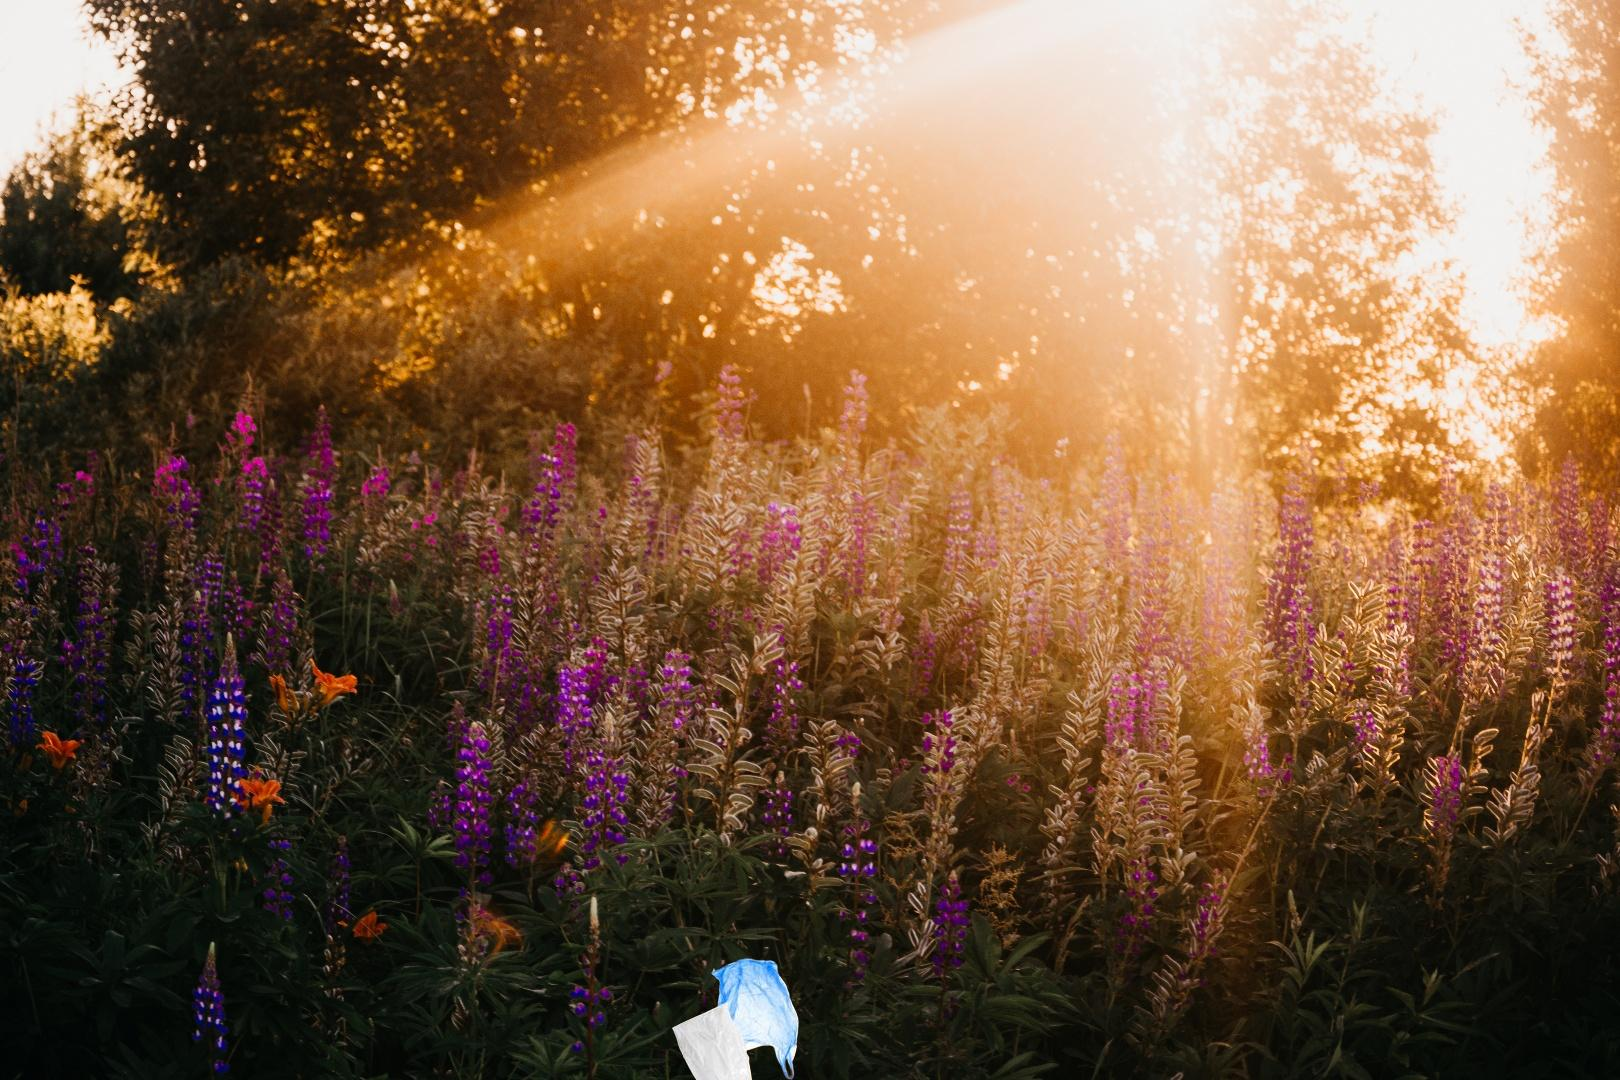plastic-bag: (669, 957, 800, 1080)
